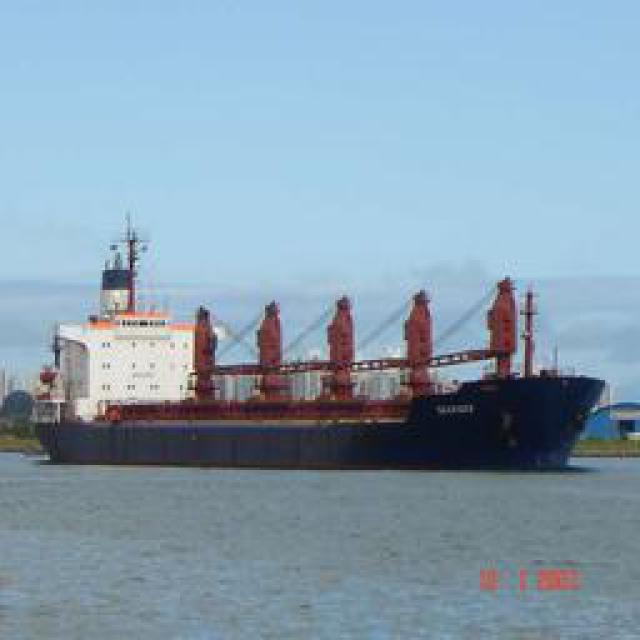Ship: (25, 236, 608, 469)
